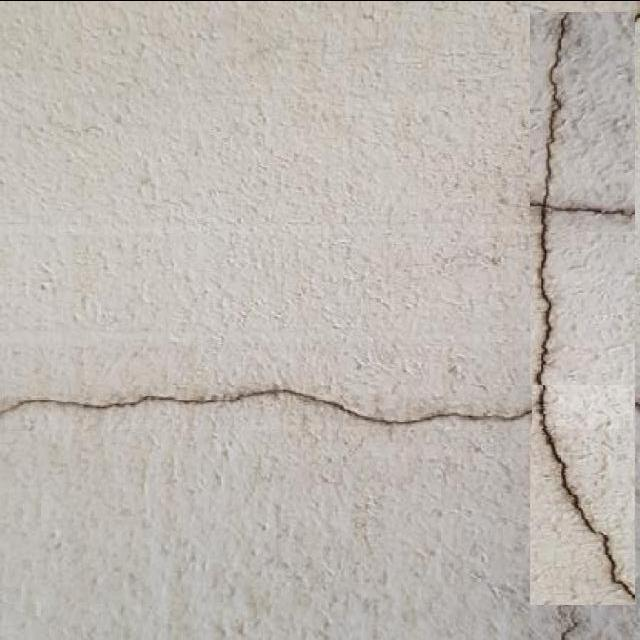crack: (2, 338, 628, 465), (529, 8, 639, 607), (0, 7, 185, 170), (169, 244, 329, 341), (375, 199, 525, 288), (43, 562, 211, 640), (276, 218, 400, 323), (545, 210, 634, 308), (554, 13, 639, 115), (536, 11, 570, 226), (317, 7, 426, 72), (6, 393, 208, 423), (167, 433, 247, 498), (59, 274, 148, 331), (517, 9, 538, 204), (528, 11, 560, 73), (549, 9, 572, 93), (535, 201, 631, 219), (163, 444, 185, 492), (164, 321, 195, 347), (76, 294, 100, 323), (527, 198, 549, 212)
dampens: (137, 385, 298, 409)
dampness: (1, 413, 163, 629), (133, 406, 274, 640)
